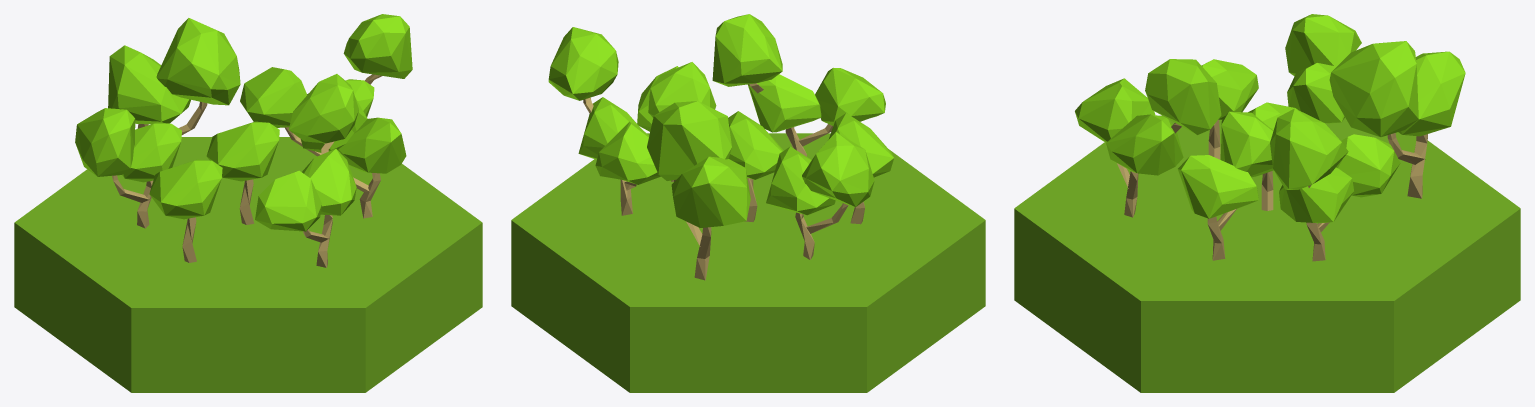
The model's file is Selva_Hex.fbx.
The picture shows the model from 3 angles, left to right: view 1: azimuth 30°, elevation 25°; view 2: azimuth 150°, elevation 25°; view 3: azimuth 270°, elevation 25°; orthographic projection. The views are drawn at different scales.
Parts seen in each view (by area): view 1: Selva; view 2: Selva; view 3: Selva.
Part boxes in pixels (x1=…): Selva: x1=14, y1=14, x2=482, y2=392; Selva: x1=511, y1=14, x2=985, y2=392; Selva: x1=1014, y1=14, x2=1520, y2=392.
Bounding box in the file's own units: 86.8 × 57.61 × 100.
Materials: 1 (1 with a texture image).
